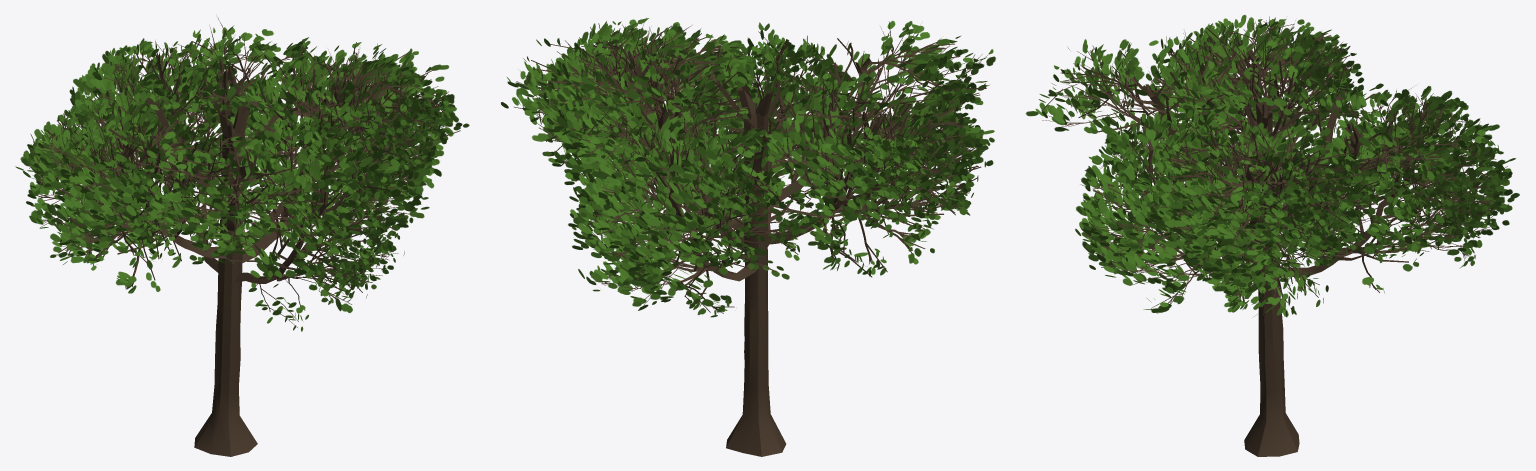
3 views of the same model, side by side, from view 1: azimuth 30°, elevation 25°; view 2: azimuth 150°, elevation 25°; view 3: azimuth 270°, elevation 25° (orthographic). The views are drawn at different scales.
Parts seen in each view (by area): view 1: oak 01.001_trunk_Mat.001_0.109; view 2: oak 01.001_trunk_Mat.001_0.109; view 3: oak 01.001_trunk_Mat.001_0.109.
Part boxes in pixels (x1,y1,x2,y2): oak 01.001_trunk_Mat.001_0.109: [15, 18, 469, 456]; oak 01.001_trunk_Mat.001_0.109: [501, 18, 995, 456]; oak 01.001_trunk_Mat.001_0.109: [1025, 15, 1519, 456].
Size of the model in its own units: 5.09 by 4.04 by 5.07.
2 materials, 1 textured.
